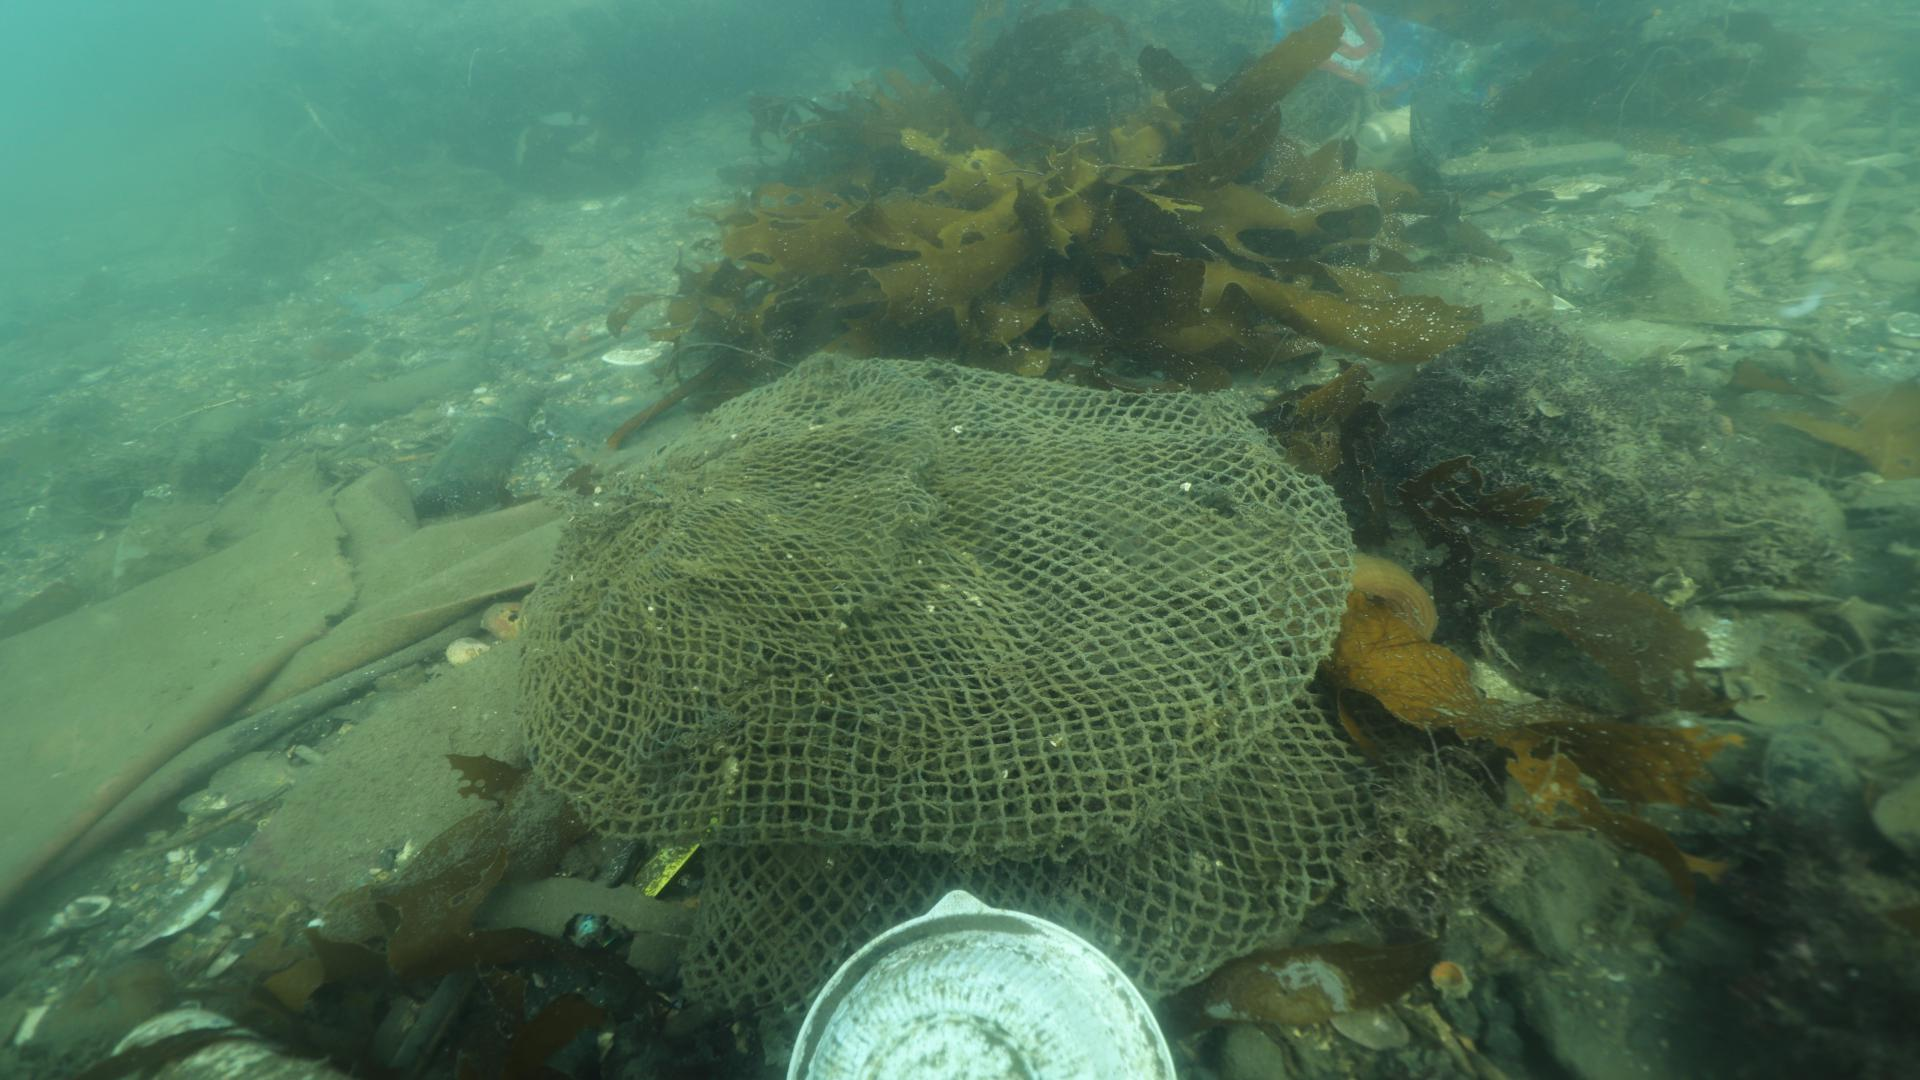fish net: (520, 351, 1383, 1021)
